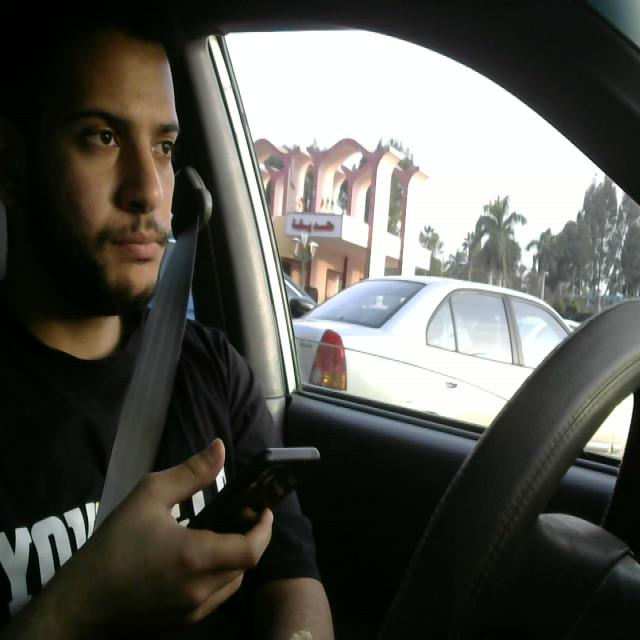mobile use: (136, 447, 326, 611)
